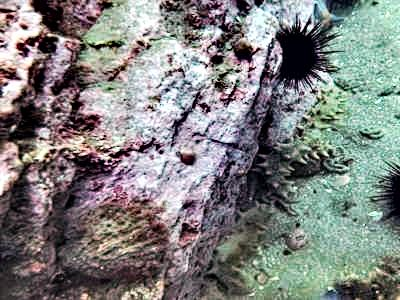urchin: (272, 12, 349, 98), (364, 152, 397, 224)
